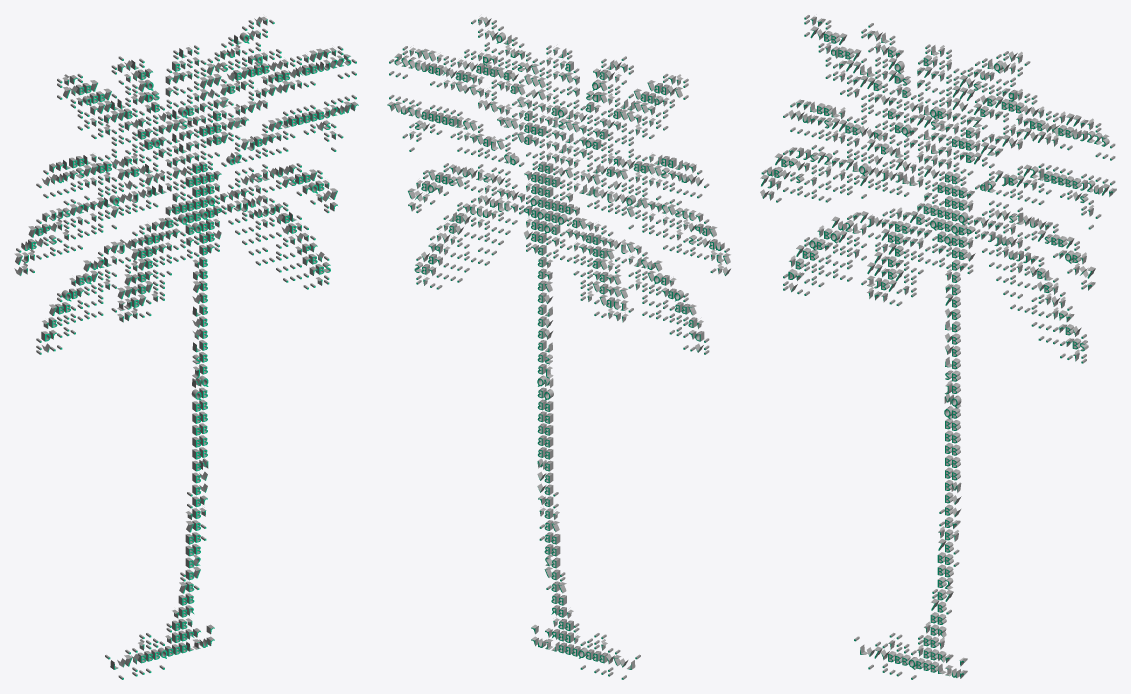
Rendered from UXRasciiPALMTREE.fbx.
3 views of the same model, side by side, from view 1: azimuth 30°, elevation 25°; view 2: azimuth 150°, elevation 25°; view 3: azimuth 330°, elevation 25° (orthographic). The views are drawn at different scales.
Parts seen in each view (by area): view 1: UXRasciiPALMTREE; view 2: UXRasciiPALMTREE; view 3: UXRasciiPALMTREE.
Part boxes in pixels (bbox=[...]): UXRasciiPALMTREE: bbox=[14, 16, 358, 679]; UXRasciiPALMTREE: bbox=[387, 16, 730, 679]; UXRasciiPALMTREE: bbox=[760, 15, 1116, 679].
Size of the model in its own units: 155 by 273 by 2.95.
